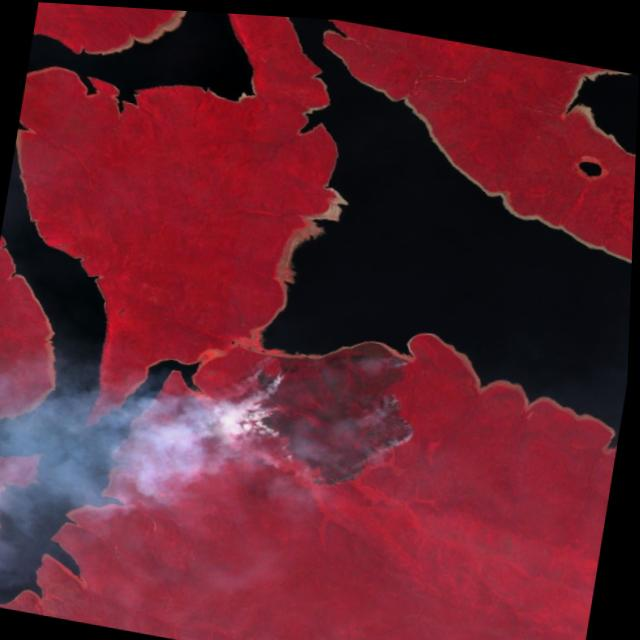fire: (232, 314, 430, 497)
